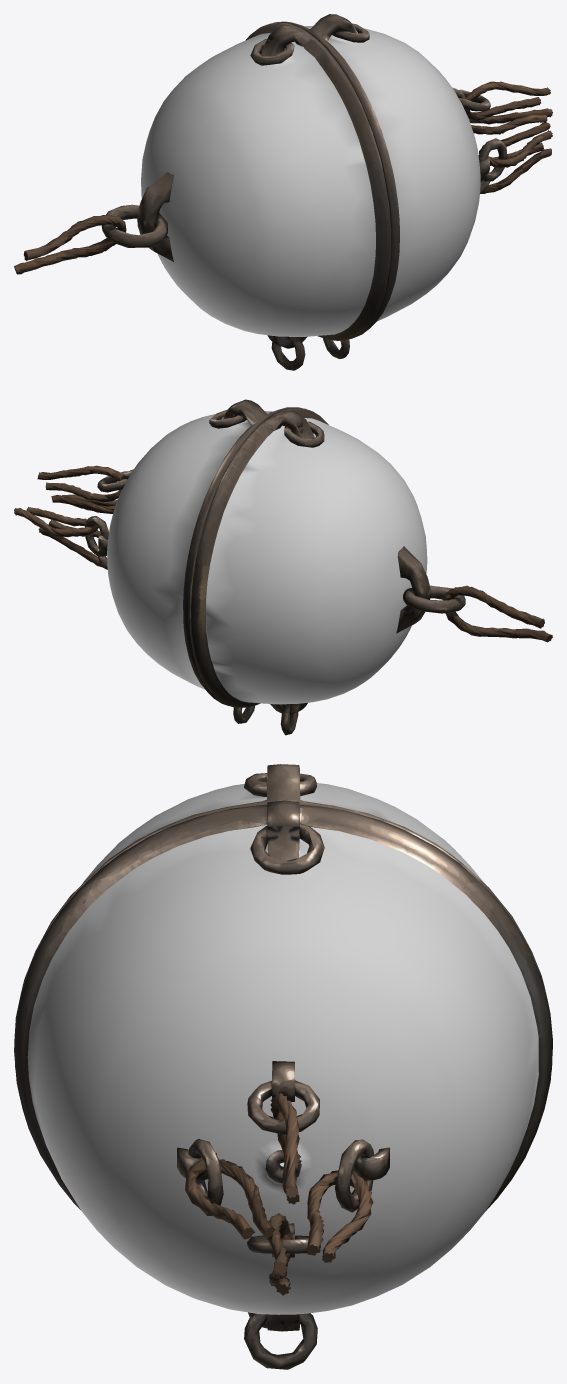
File: Magdeburger_Halbkugeln.fbx
3 views of the same model, one above another, from view 1: azimuth 30°, elevation 25°; view 2: azimuth 150°, elevation 25°; view 3: azimuth 270°, elevation 25° (orthographic). The views are drawn at different scales.
Parts seen in each view (by area): view 1: Halbkugeln, Halbkugeln.001, Rope.001, Rope; view 2: Halbkugeln, Halbkugeln.001, Rope.001, Rope; view 3: Halbkugeln.001, Halbkugeln, Rope.001.
Boxes of the visible parts, left/top/right/bottom form: Halbkugeln: left=101, top=22, right=391, bottom=370; Halbkugeln.001: left=274, top=14, right=507, bottom=358; Rope.001: left=464, top=81, right=552, bottom=193; Rope: left=14, top=215, right=126, bottom=274; Halbkugeln: left=191, top=407, right=465, bottom=735; Halbkugeln.001: left=85, top=399, right=301, bottom=723; Rope.001: left=14, top=465, right=122, bottom=569; Rope: left=443, top=585, right=552, bottom=642; Halbkugeln.001: left=14, top=800, right=552, bottom=1369; Halbkugeln: left=14, top=764, right=552, bottom=1328; Rope.001: left=185, top=1092, right=373, bottom=1295.
Bounding box in the file's own units: 413 × 243 × 211.
